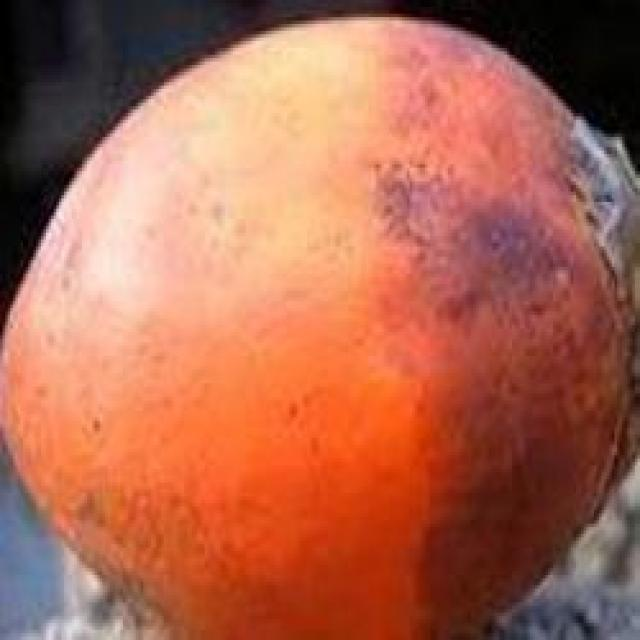good: (0, 17, 637, 637)
